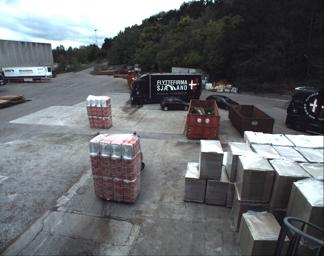rockwool_batts: (88, 133, 141, 202), (85, 93, 112, 127)
